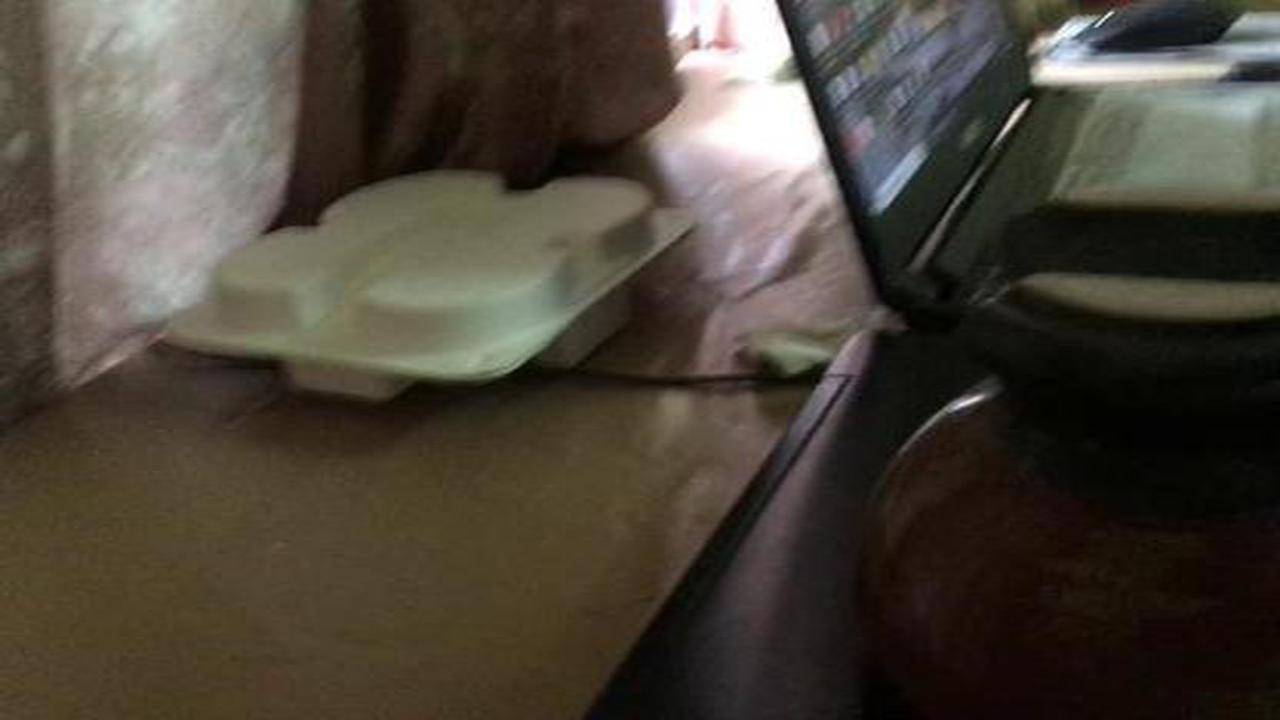insulator_pin: (844, 172, 1274, 717)
